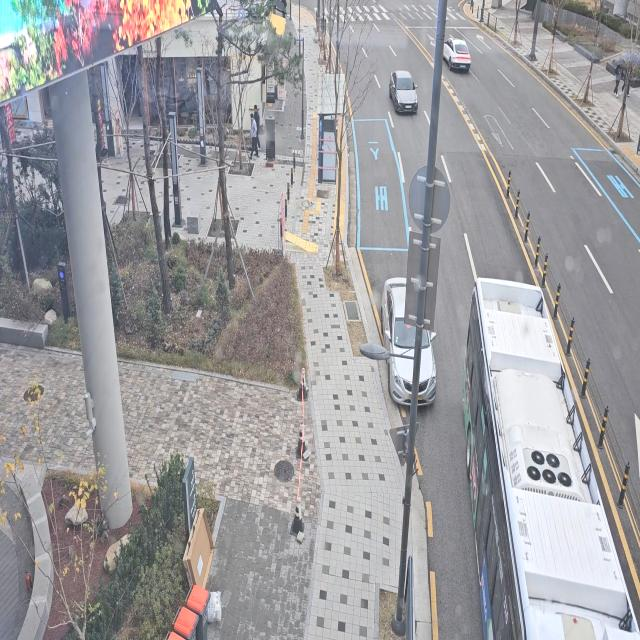Bus: (455, 275, 640, 640)
Car: (373, 260, 442, 417), (389, 65, 422, 114), (442, 27, 476, 72)
